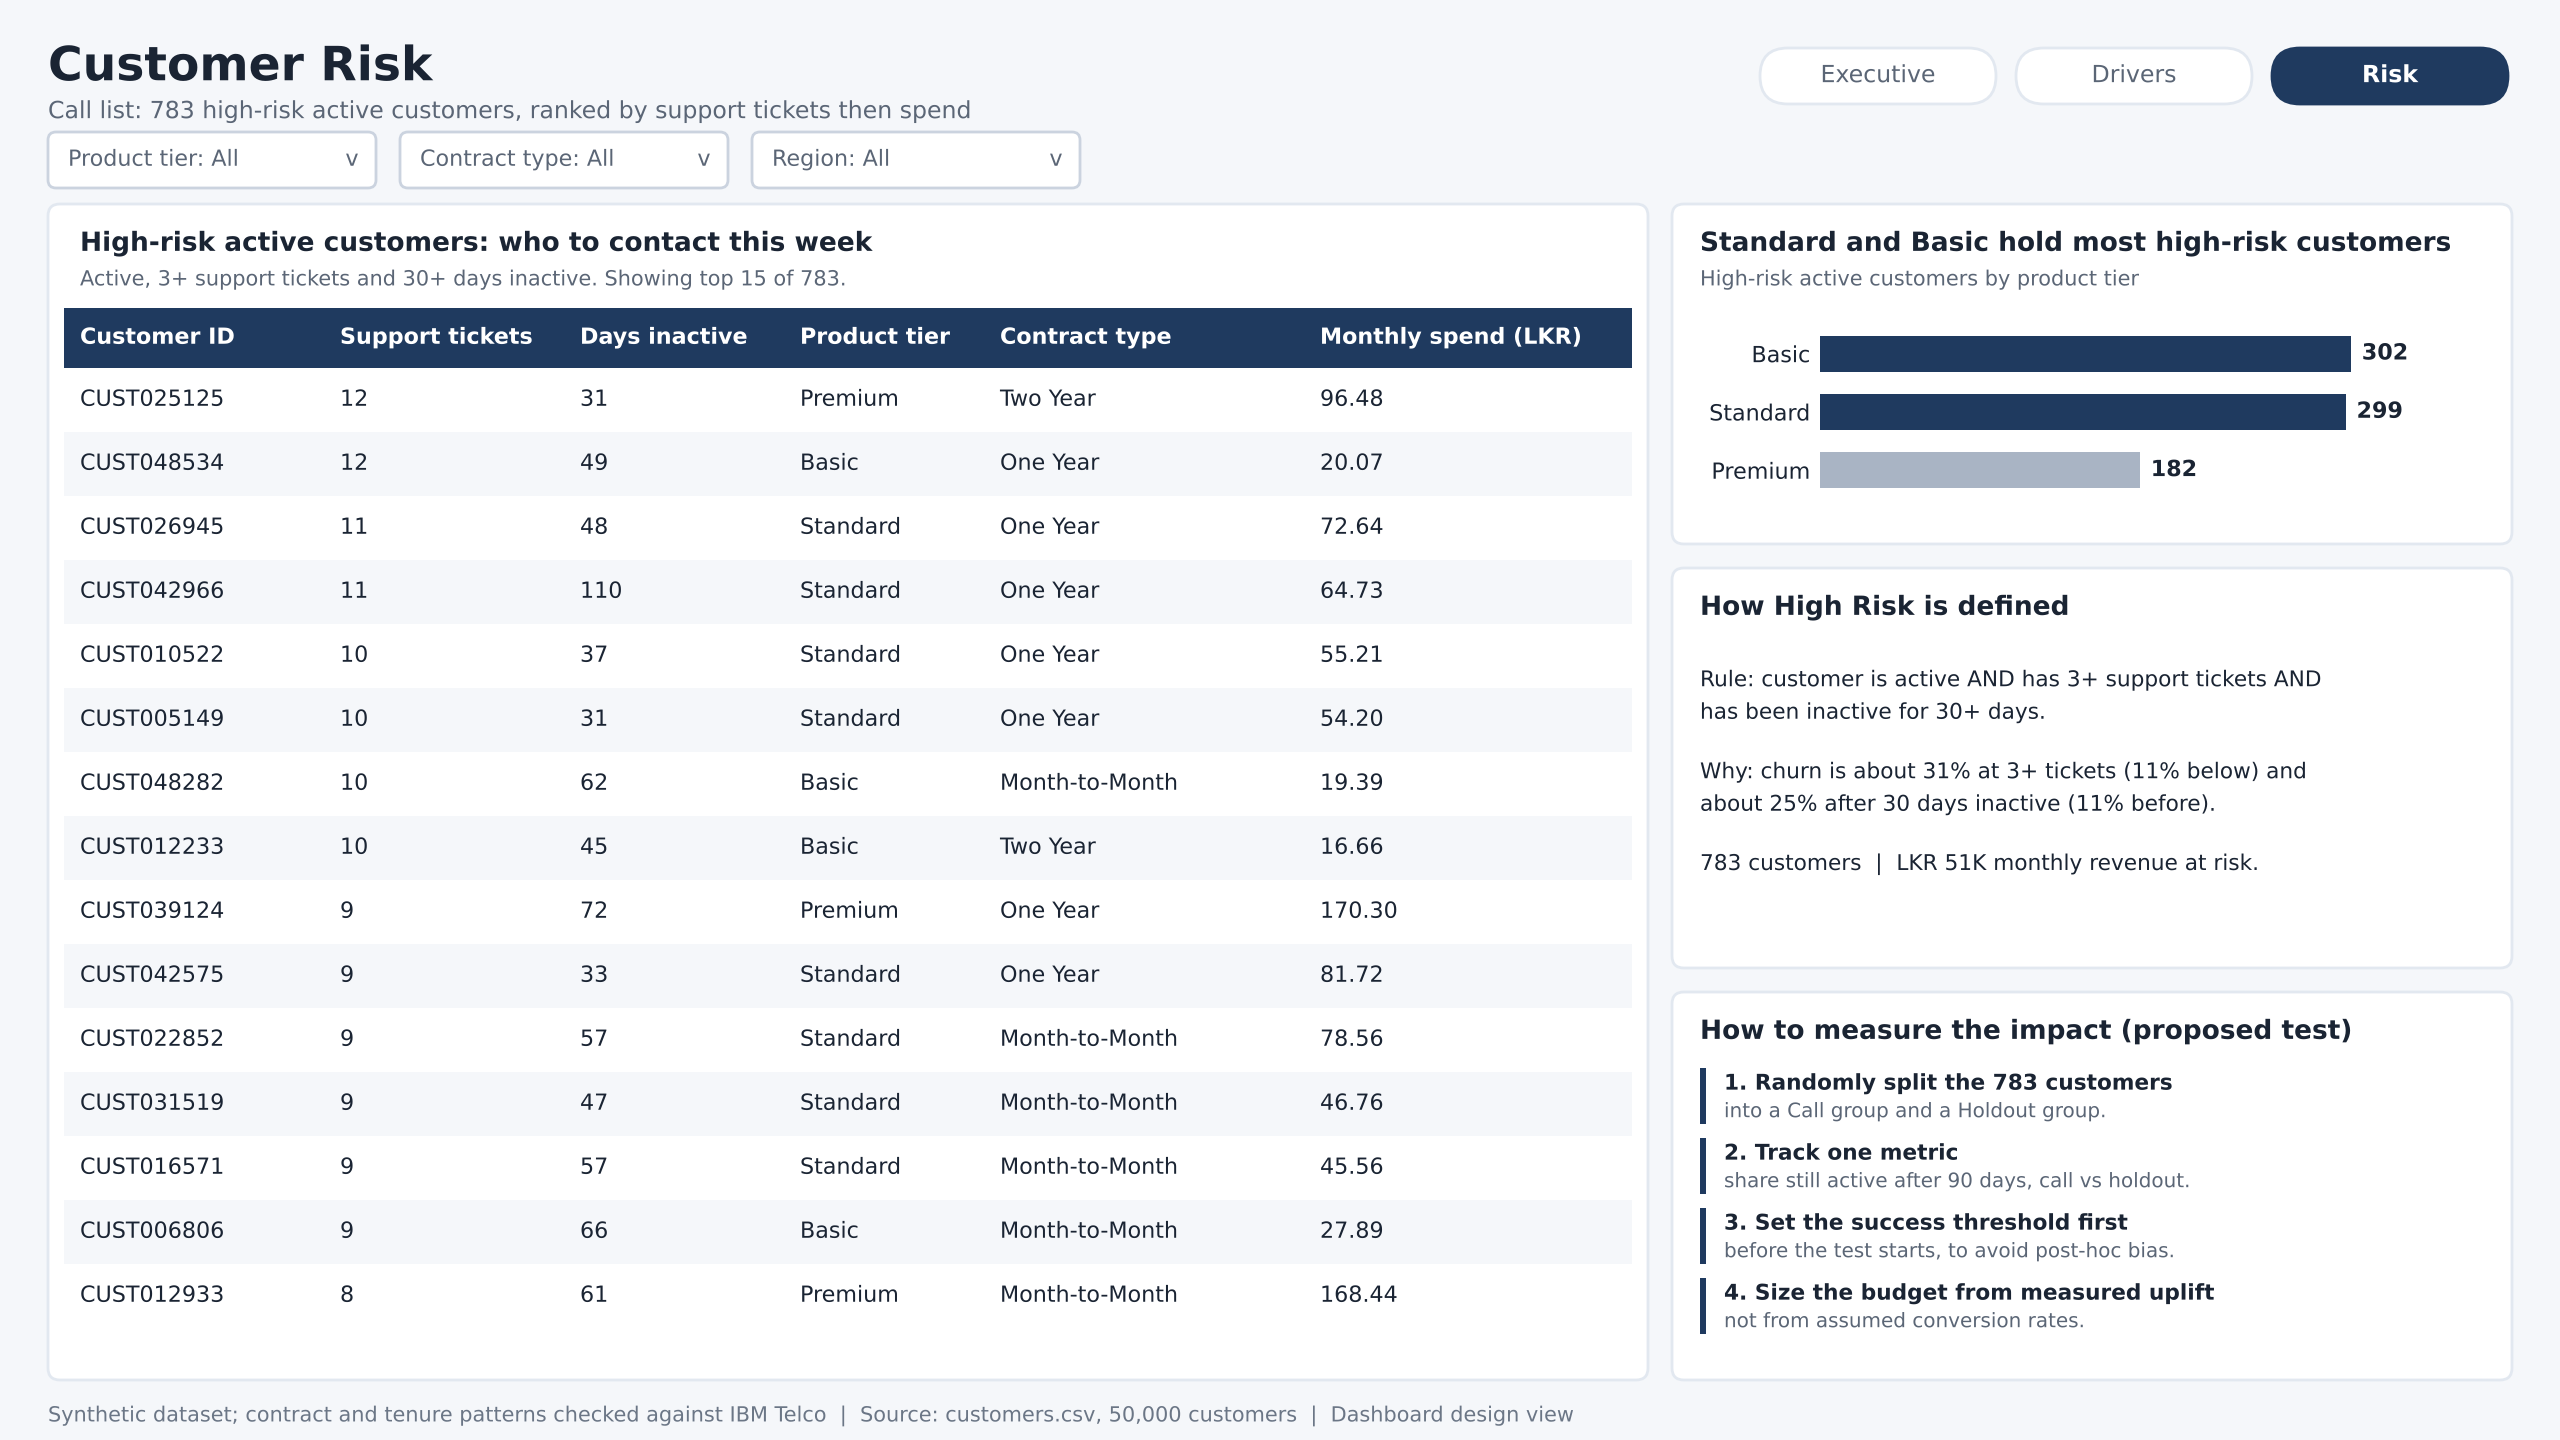

Layout of this report page (visuals, bound fields, positions):
{"tool":"powerbi","page":{"name":"Risk","canvas":[1280,720],"ordinal":2},"visuals":[{"type":"textbox","box":[32,0,752,48],"z":2900},{"type":"textbox","box":[256,16,512,32],"z":3000},{"type":"pageNavigator","box":[879,22,376,32],"z":3100},{"type":"slicer","title":"Regions","fields":{"Values":["customers.product_tier"]},"box":[32,48,160,64],"z":3200},{"type":"slicer","title":"Product Tier","fields":{"Values":["customers.contract_type"]},"box":[208,48,176,64],"z":3300},{"type":"slicer","title":"Contract Type","fields":{"Values":["customers.region"]},"box":[400,48,176,64],"z":3400},{"type":"textbox","box":[32,688,896,32],"z":3500},{"type":"tableEx","title":"High-risk active customers: who to contact this week","fields":{"Values":["customers.customer_id","Sum(customers.support_tickets)","Sum(customers.last_login_days)","customers.product_tier","customers.contract_type","Sum(customers.monthly_spend)"]},"box":[32,128,800,560],"z":3600},{"type":"clusteredBarChart","title":"Standard and Basic hold most high-risk customers","fields":{"Category":["customers.product_tier"],"Y":["customers.High Risk Customers"]},"box":[836,102,420,260],"z":3700},{"type":"textbox","box":[832,368,432,320],"z":3800}]}

Visuals, with their boxes in screenshot pixels (x1, y1, x2, y2), scaled from the page's 1280x720 canvas onto the 2560x1440 screenshot:
textbox: l=64, t=0, r=1568, b=96
textbox: l=512, t=32, r=1536, b=96
pageNavigator: l=1758, t=44, r=2510, b=108
"Regions" slicer: l=64, t=96, r=384, b=224
"Product Tier" slicer: l=416, t=96, r=768, b=224
"Contract Type" slicer: l=800, t=96, r=1152, b=224
textbox: l=64, t=1376, r=1856, b=1439
"High-risk active customers: who to contact this week" tableEx: l=64, t=256, r=1664, b=1376
"Standard and Basic hold most high-risk customers" clusteredBarChart: l=1672, t=204, r=2512, b=724
textbox: l=1664, t=736, r=2528, b=1376
